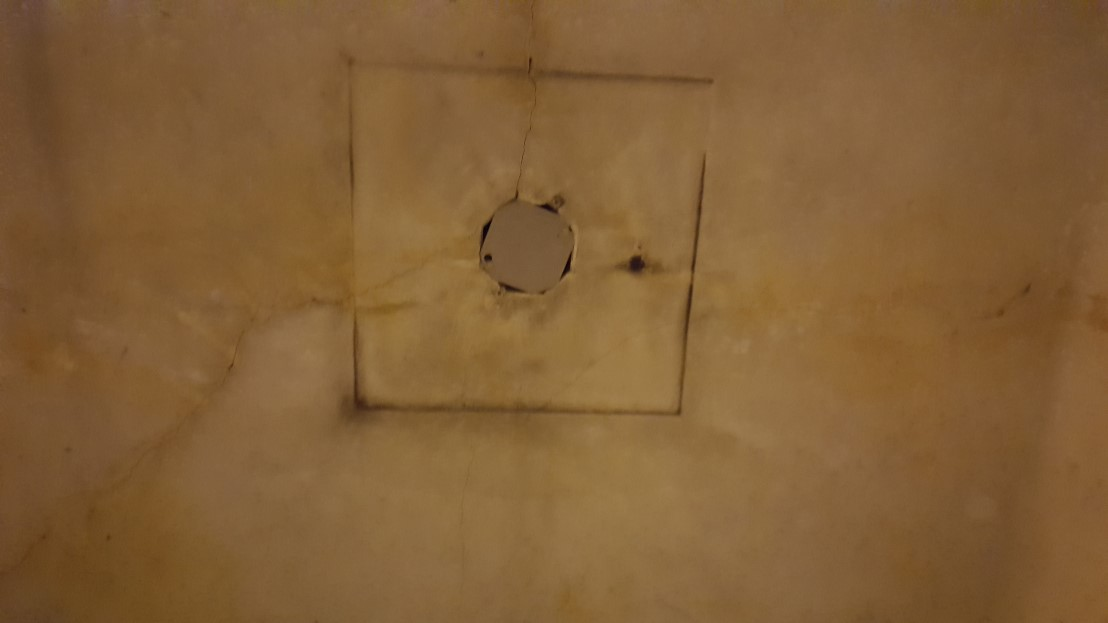Crack: (0, 211, 485, 583), (508, 0, 549, 209)
